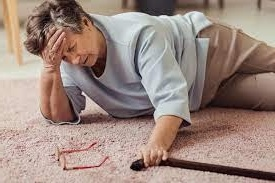fall: (21, 0, 275, 166)
